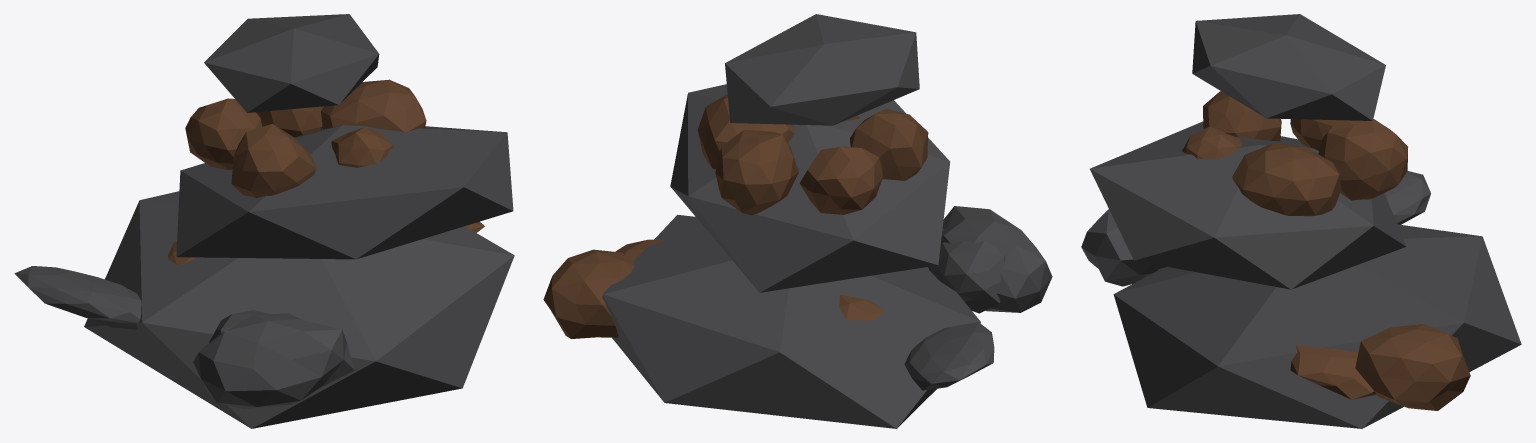
File: node_iron.fbx
The picture shows the model from 3 angles, left to right: view 1: azimuth 30°, elevation 25°; view 2: azimuth 150°, elevation 25°; view 3: azimuth 270°, elevation 25°; orthographic projection. The views are drawn at different scales.
Visible parts, largest first — view 1: node_iron; view 2: node_iron; view 3: node_iron.
Boxes of the visible parts, x1,y1,x2,y2 form: node_iron: (14,14,514,428); node_iron: (543,14,1052,428); node_iron: (1081,14,1521,428).
Size of the model in its own units: 3.51 by 2.82 by 3.15.
